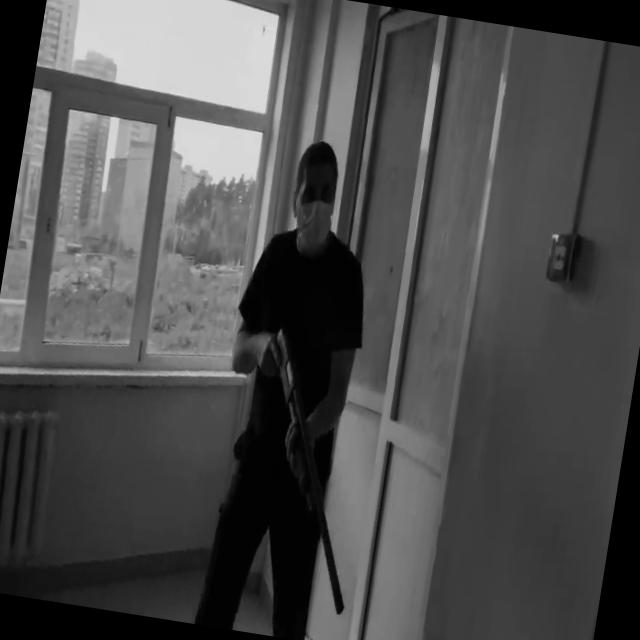gun: (233, 322, 388, 618)
person with a gun: (188, 131, 417, 640)
